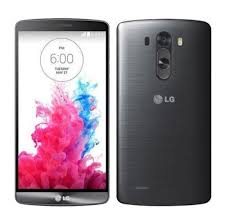lg: (11, 14, 111, 208), (113, 15, 213, 209)
